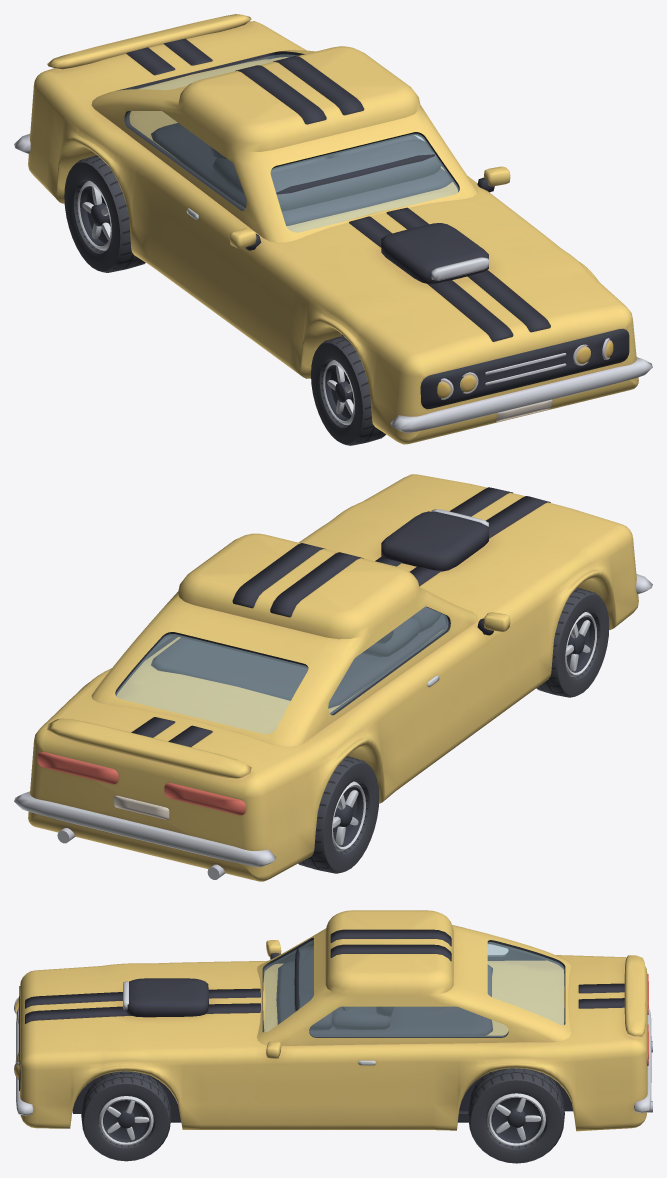
The model's file is muscle.glb.
3 renders of one model, top to bottom at view 1: azimuth 30°, elevation 25°; view 2: azimuth 150°, elevation 25°; view 3: azimuth 270°, elevation 25°, orthographic. The views are drawn at different scales.
Parts seen in each view (by area): view 1: muscle-car_body, muscle-car_windows, muscle-car_wheel_rr, muscle-car_wheel_fr; view 2: muscle-car_body, muscle-car_windows, muscle-car_wheel_rr, muscle-car_wheel_fr; view 3: muscle-car_body, muscle-car_windows, muscle-car_wheel_rl, muscle-car_wheel_fl.
Boxes of the visible parts, x1,y1,x2,y2 form: muscle-car_body: [14, 14, 652, 444]; muscle-car_windows: [127, 54, 458, 232]; muscle-car_wheel_rr: [64, 155, 145, 272]; muscle-car_wheel_fr: [311, 336, 385, 445]; muscle-car_body: [14, 474, 652, 881]; muscle-car_windows: [116, 607, 448, 733]; muscle-car_wheel_rr: [298, 756, 379, 873]; muscle-car_wheel_fr: [536, 587, 609, 697]; muscle-car_body: [14, 910, 652, 1131]; muscle-car_windows: [264, 940, 564, 1036]; muscle-car_wheel_rl: [468, 1068, 564, 1163]; muscle-car_wheel_fl: [81, 1071, 171, 1161].
Size of the model in its own units: 1.92 by 1.39 by 4.68.
18 materials, 5 textured.
